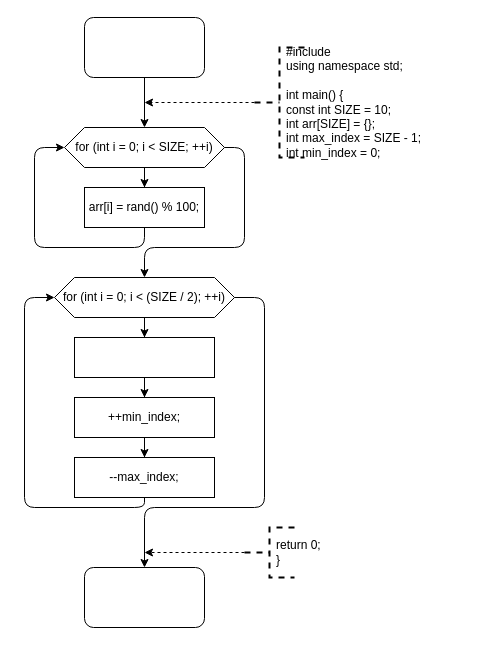
Some shapes in this 482 by 645 pixel diagram are drawn without their labels. Here are the shapes that lost their labels. From the top down, the box of each, then its label:
(84, 16, 204, 78): Начало
(74, 336, 214, 378): swap(arr[max_index], arr[min_index]);
(84, 566, 204, 628): Конец
